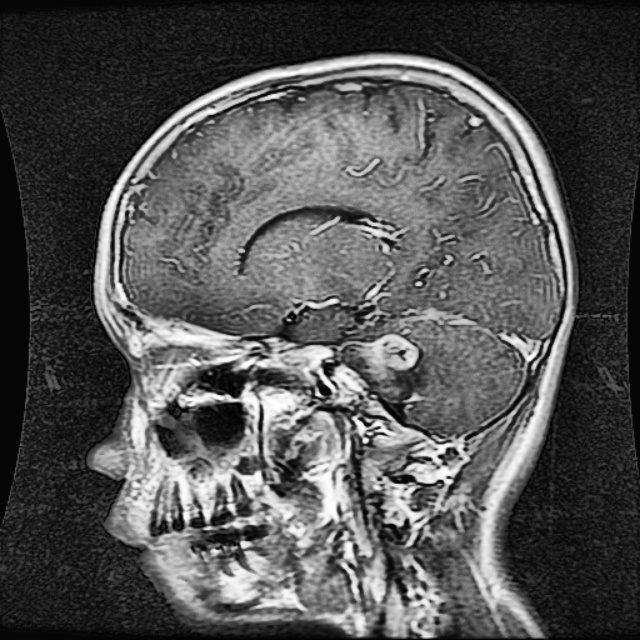Meningioma: (357, 335, 420, 399)
